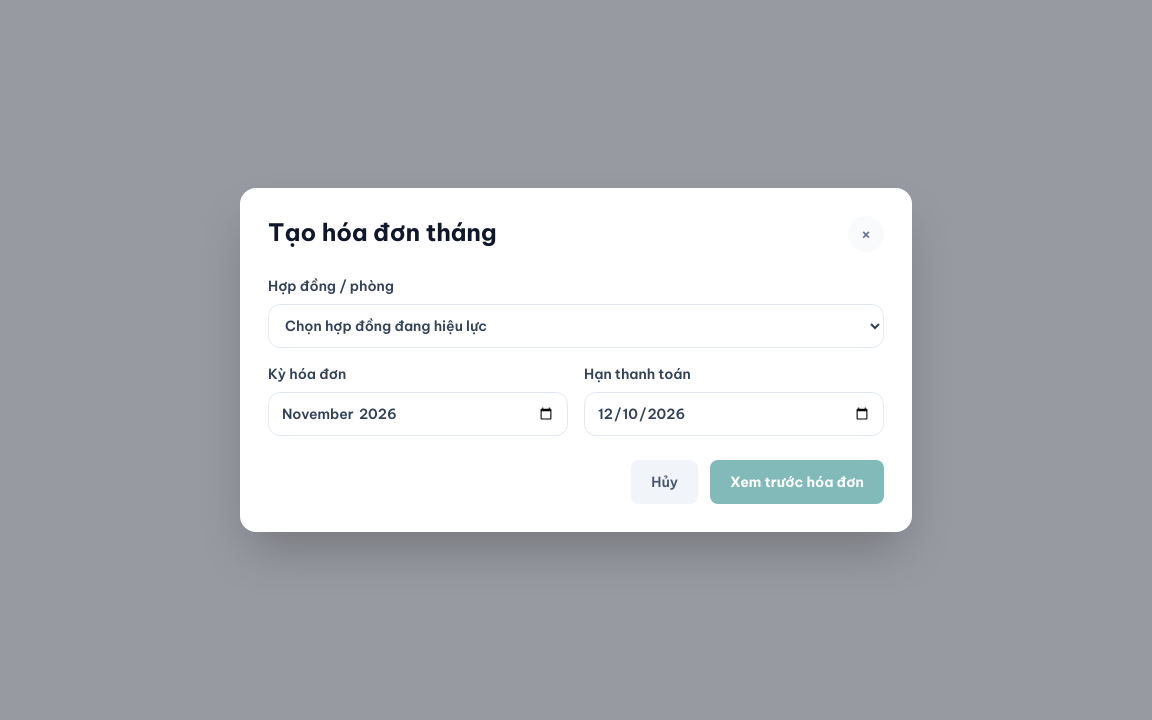
contract meter handover › fails closed while readings load, shows the load failure, and retries
This screenshot has width=1152, height=720.
Step 1. Select "Sunrise · Phòng A101 · Nguyễn An" in the dropdown labelled "Hợp đồng / phòng" → (576, 326), box [268, 304, 884, 348]
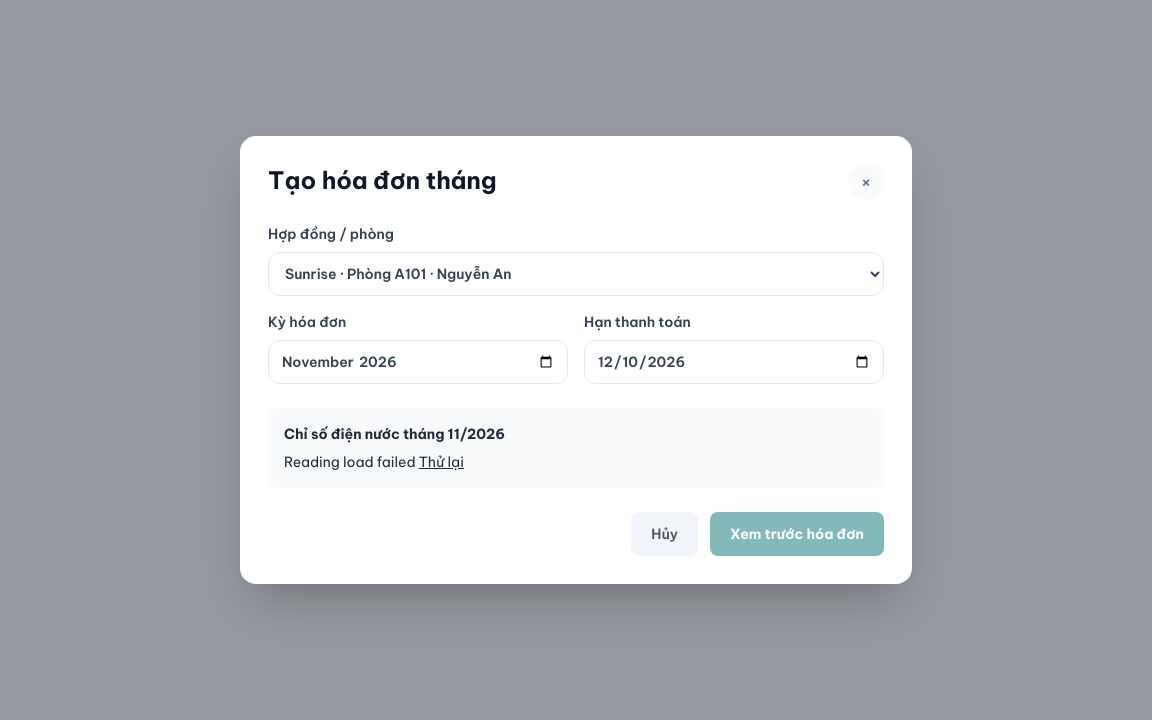
Expected: the text "Reading load failed" is shown, [284, 453, 416, 471]
Step 2. Click the button "Thử lại" → (441, 462), box [419, 452, 464, 472]
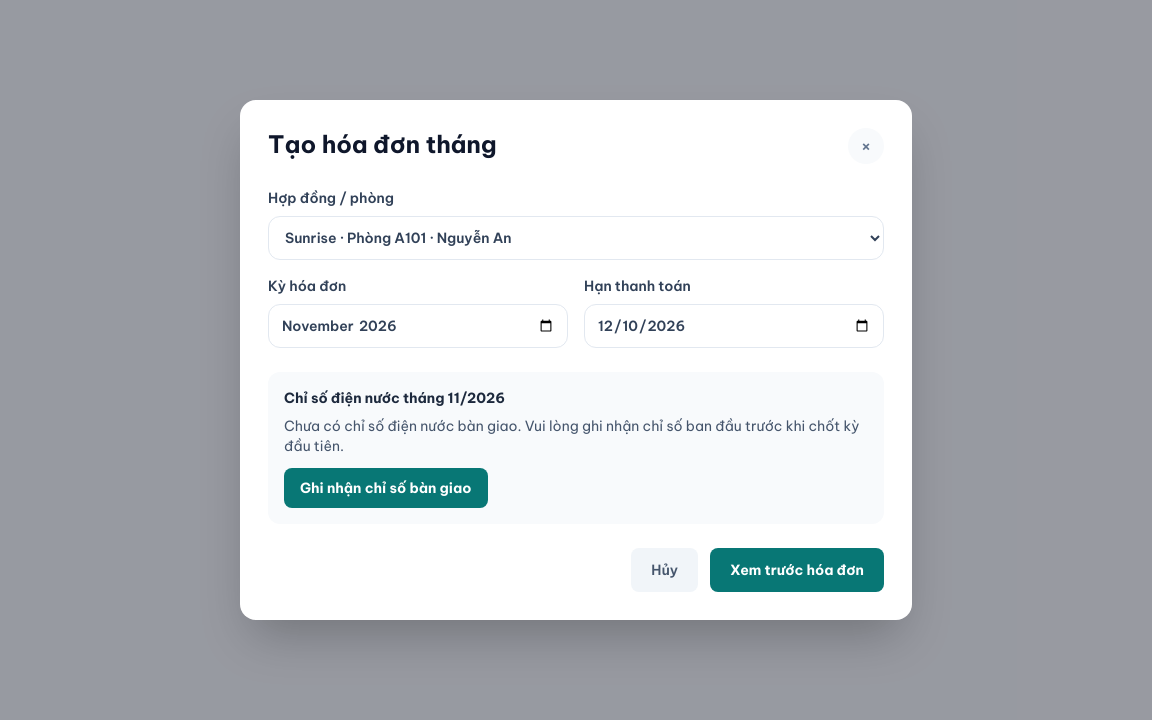
Expected: the text "Chưa có chỉ số điện nước bàn giao" is shown, [284, 417, 860, 455]
